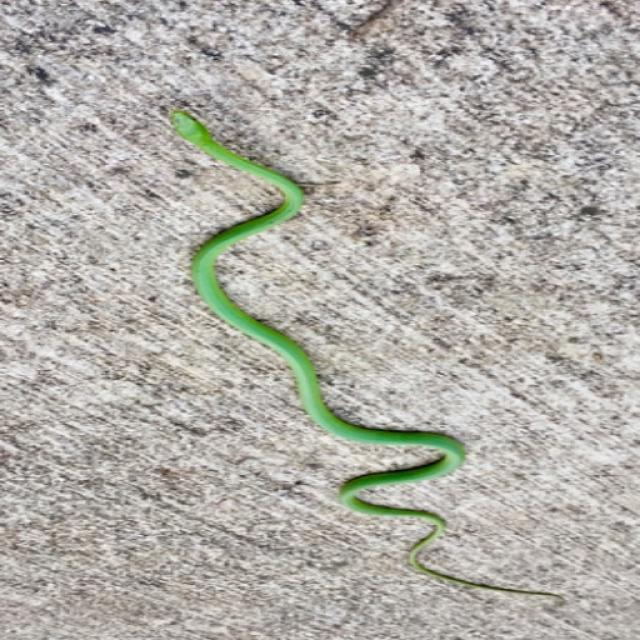snake: (160, 89, 580, 612)
